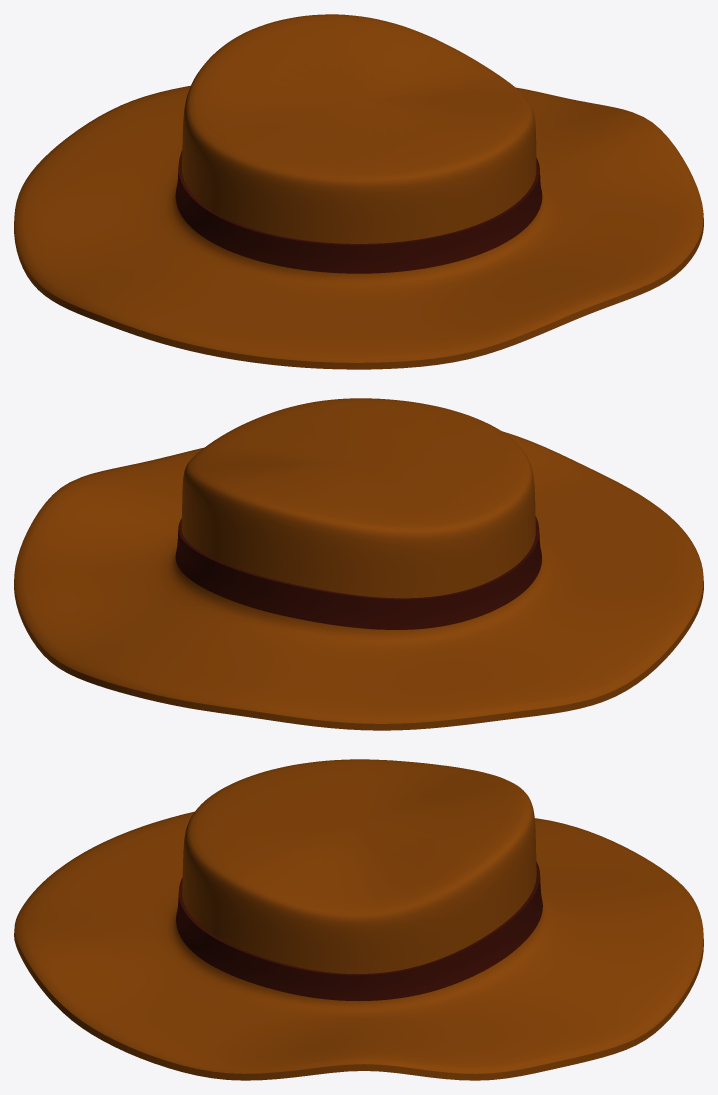
Rendered from hat.fbx.
3 renders of one model, top to bottom at view 1: azimuth 30°, elevation 25°; view 2: azimuth 150°, elevation 25°; view 3: azimuth 270°, elevation 25°, orthographic.
Parts seen in each view (by area): view 1: Circle; view 2: Circle; view 3: Circle.
Boxes of the visible parts, box(x1,y1,x2,y2) form: Circle: box(14, 14, 703, 369); Circle: box(14, 398, 703, 730); Circle: box(14, 759, 703, 1080).
Size of the model in its own units: 198 by 51.58 by 198.
